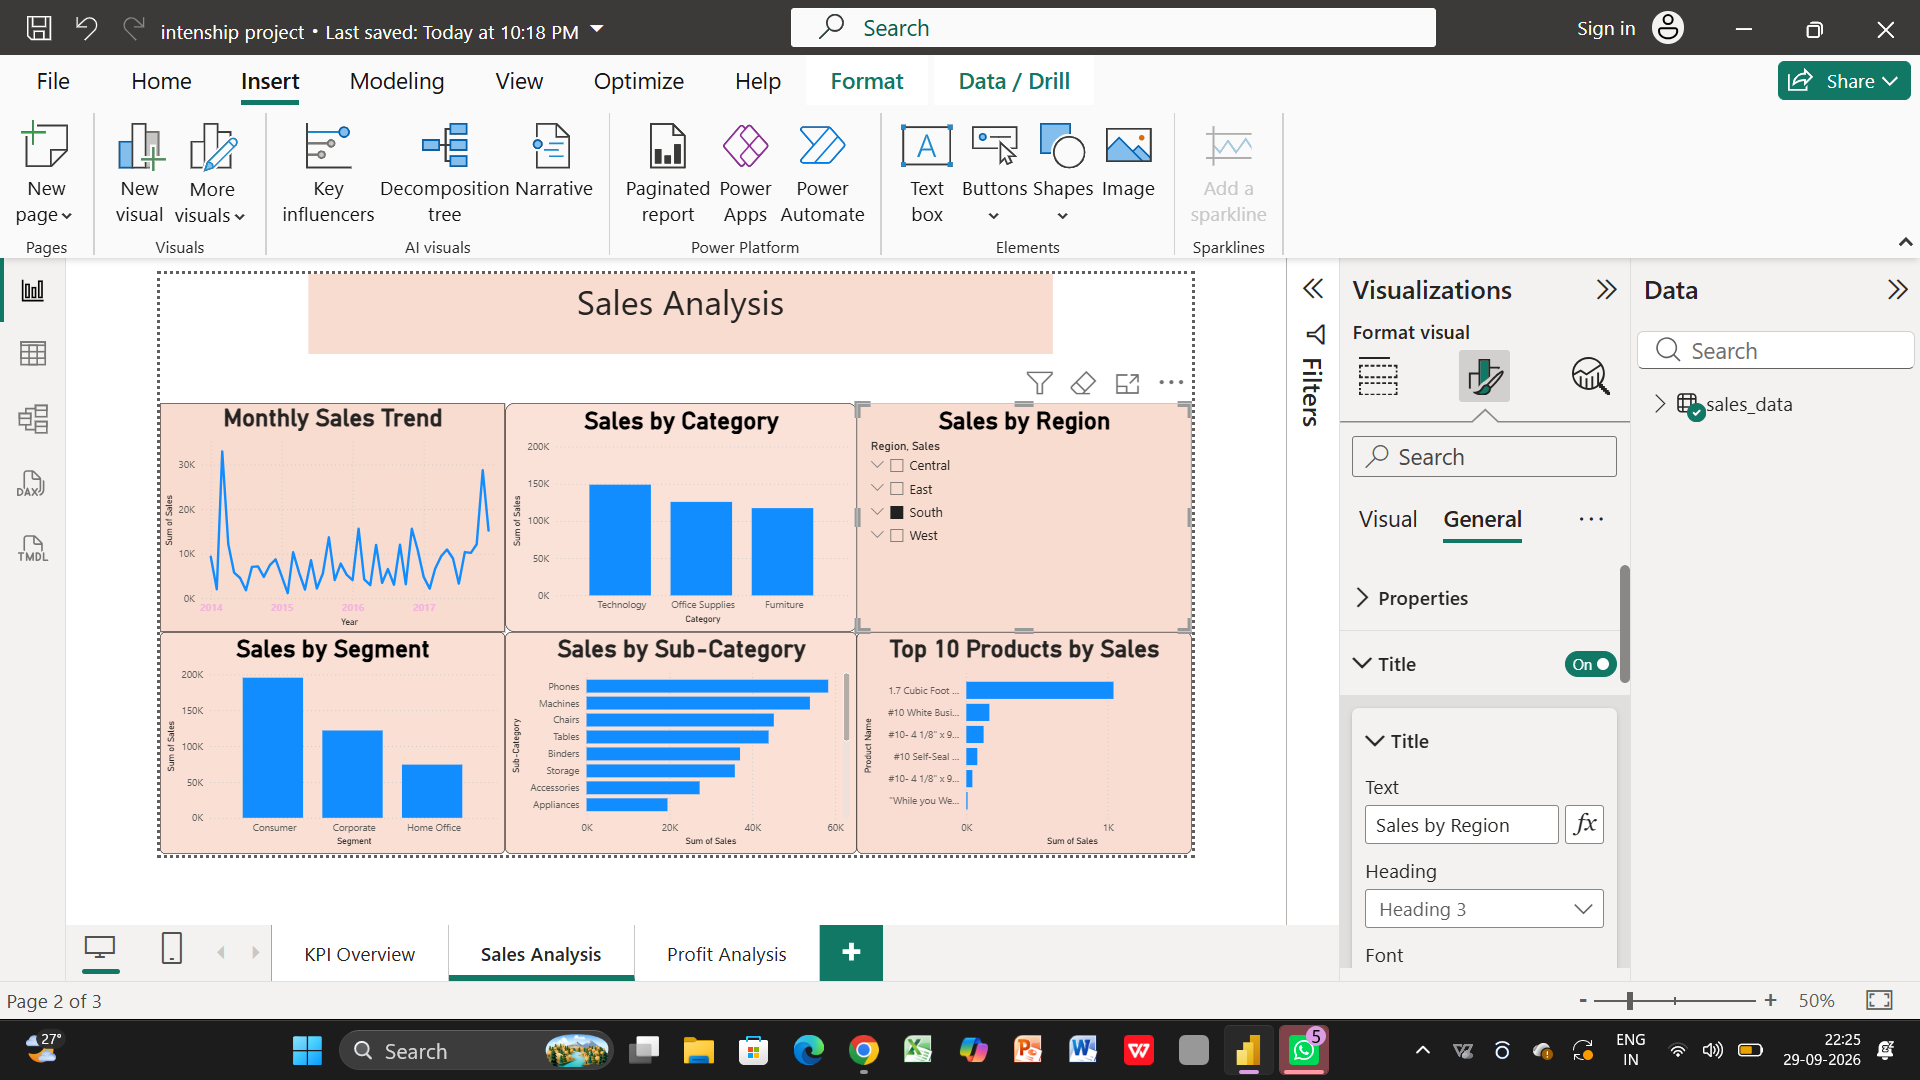

The dashboard page shown, as its layout file describes it:
{"tool":"powerbi","page":{"name":"Sales Analysis","canvas":[1280,720],"ordinal":1},"visuals":[{"type":"lineChart","title":"Monthly Sales Trend","fields":{"Category":["sales_data.Order Date.Variation.Date Hierarchy.Year","sales_data.Order Date.Variation.Date Hierarchy.Quarter","sales_data.Order Date.Variation.Date Hierarchy.Month","sales_data.Order Date.Variation.Date Hierarchy.Day"],"Y":["Sum(sales_data.Sales)"]},"box":[0,133.2,385.3,284.1],"z":0},{"type":"clusteredColumnChart","title":"Sales by Category","fields":{"Category":["sales_data.Category"],"Y":["Sum(sales_data.Sales)"]},"box":[420.8,133.2,415.5,284.1],"z":1000},{"type":"slicer","title":"Sales by Region","fields":{"Values":["sales_data.Region","sales_data.Sales"]},"box":[864.7,133.2,415.5,284.1],"z":2000},{"type":"clusteredColumnChart","title":" Sales by Segment","fields":{"Category":["sales_data.Segment"],"Y":["Sum(sales_data.Sales)"]},"box":[0,443.9,385.3,275.2],"z":3000},{"type":"clusteredBarChart","title":"Sales by Sub-Category","fields":{"Category":["sales_data.Sub-Category"],"Y":["Sum(sales_data.Sales)"]},"box":[420.8,443.9,415.5,275.2],"z":4000},{"type":"clusteredBarChart","title":"Top 10 Products by Sales","fields":{"Category":["sales_data.Product Name"],"Y":["Sum(sales_data.Sales)"]},"box":[864.7,443.9,415.5,275.2],"z":5000},{"type":"textbox","box":[184.7,0,923.3,99.4],"z":6000}]}

Visuals, with their boxes on the page's 1280x720 design canvas (x1, y1, x2, y2). These are canvas units, not pixel positions in the 1920x1080 screenshot, which may show the page scaled, cropped or inside an application window:
"Monthly Sales Trend" lineChart: pyautogui.locateOnScreen(0, 133, 385, 417)
"Sales by Category" clusteredColumnChart: pyautogui.locateOnScreen(421, 133, 836, 417)
"Sales by Region" slicer: pyautogui.locateOnScreen(865, 133, 1280, 417)
" Sales by Segment" clusteredColumnChart: pyautogui.locateOnScreen(0, 444, 385, 719)
"Sales by Sub-Category" clusteredBarChart: pyautogui.locateOnScreen(421, 444, 836, 719)
"Top 10 Products by Sales" clusteredBarChart: pyautogui.locateOnScreen(865, 444, 1280, 719)
textbox: pyautogui.locateOnScreen(185, 0, 1108, 99)
